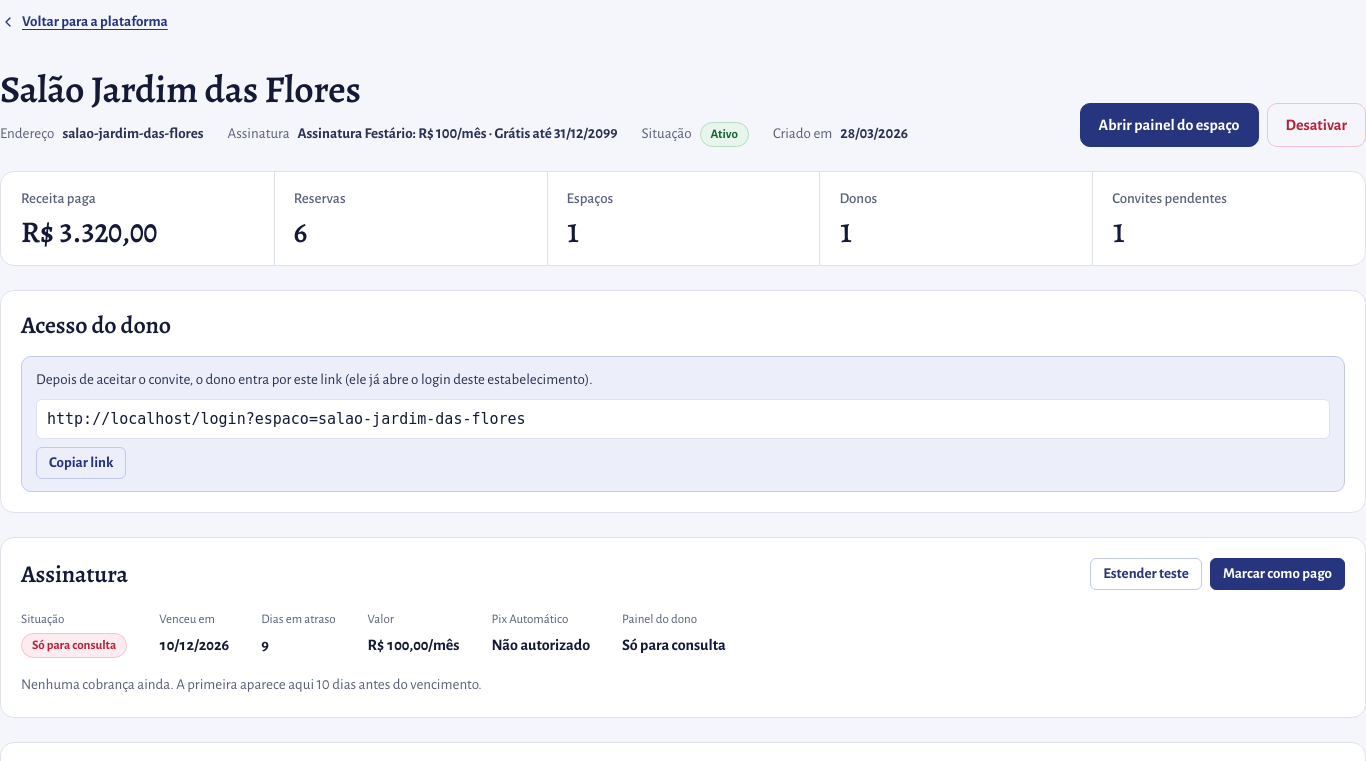
Test: Plataforma: situação da cobrança › detalhe: marca como pago por fora e o painel volta ao normal
Check: the 1st text "Só para consulta" is shown, box [21,633,127,658]
Click the button "Marcar como pago": (1277, 574) [1210,558,1345,590]
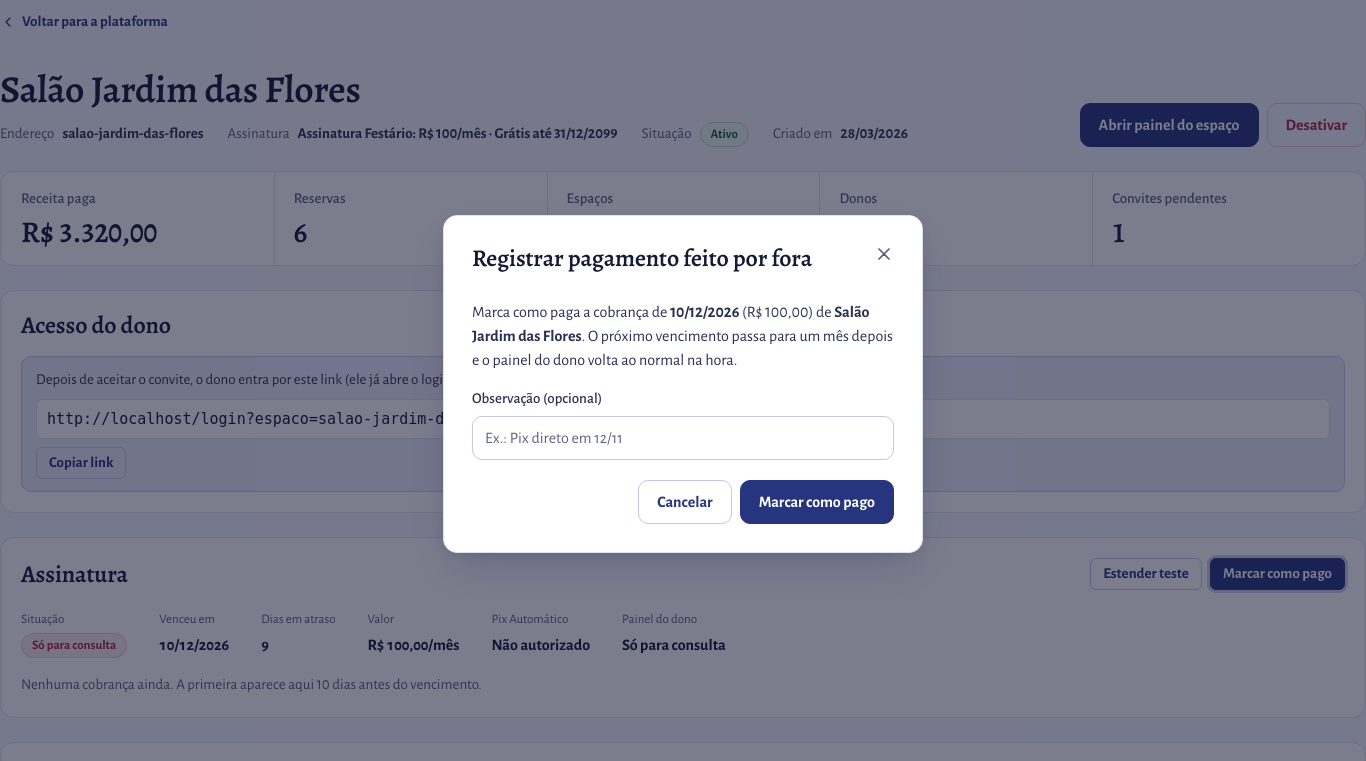
In the field labelled "Observação (opcional)": (683, 438) [472,416,894,460], type "Pix direto"
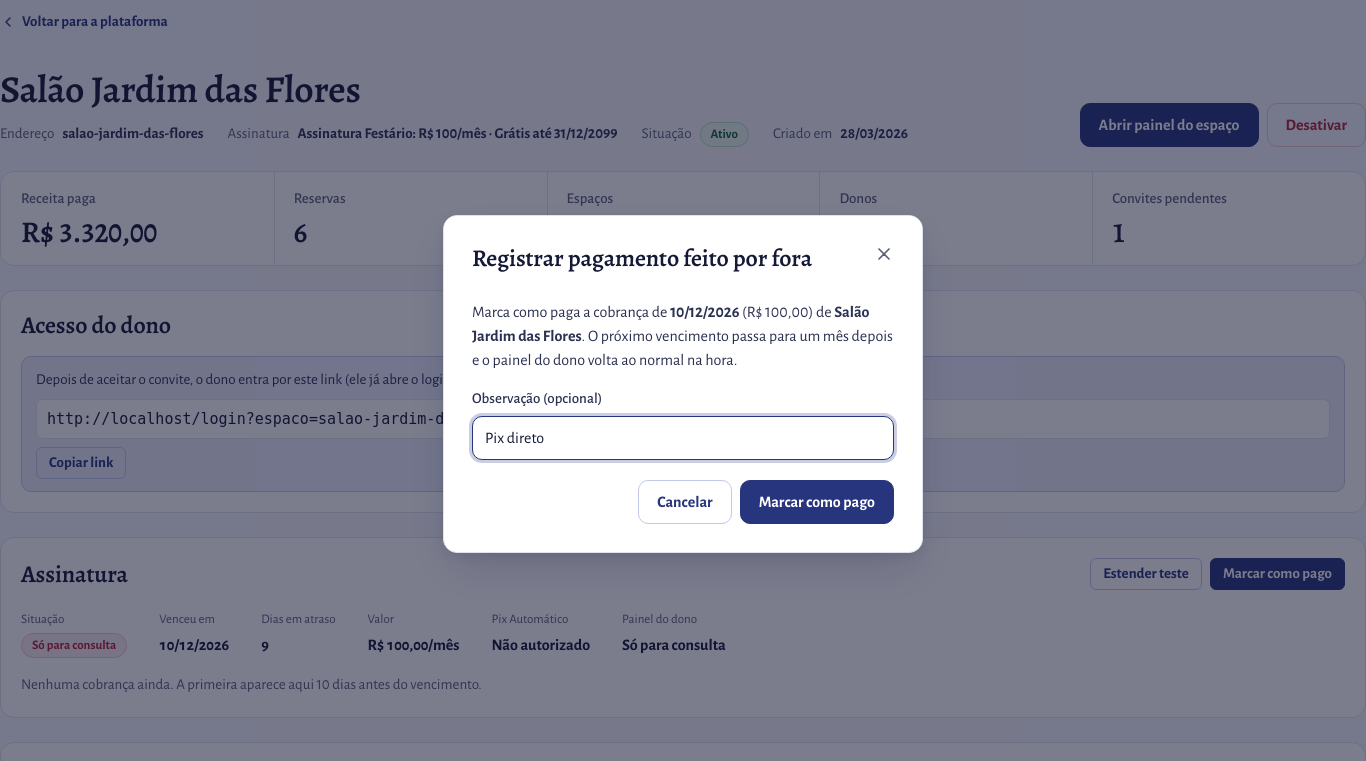
Click the button "Marcar como pago": (817, 502) [740,480,894,524]
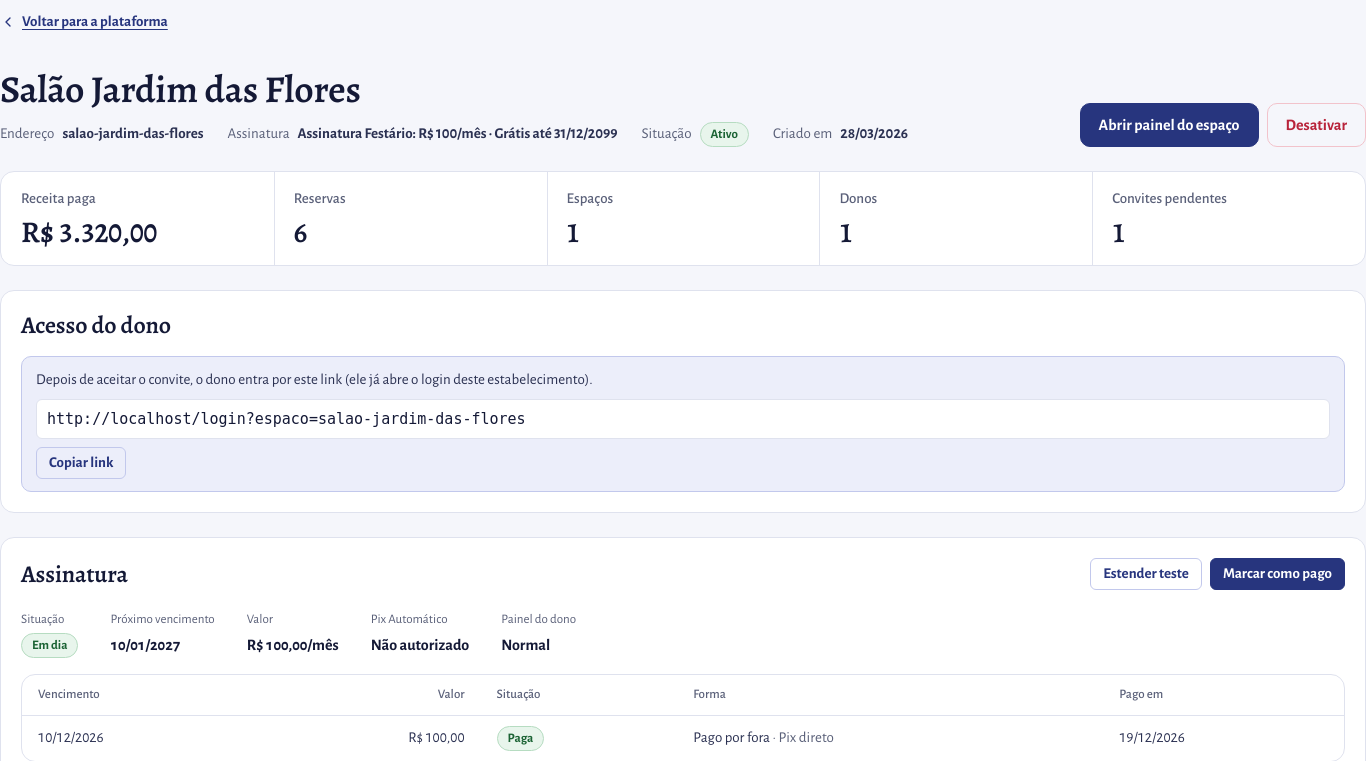
Check: the text "Em dia" is shown, box [21,633,78,658]
Check: the text "Pago por fora" is shown, box [693,730,770,745]
Check: the text "Normal" is shown, box [501,637,550,653]
